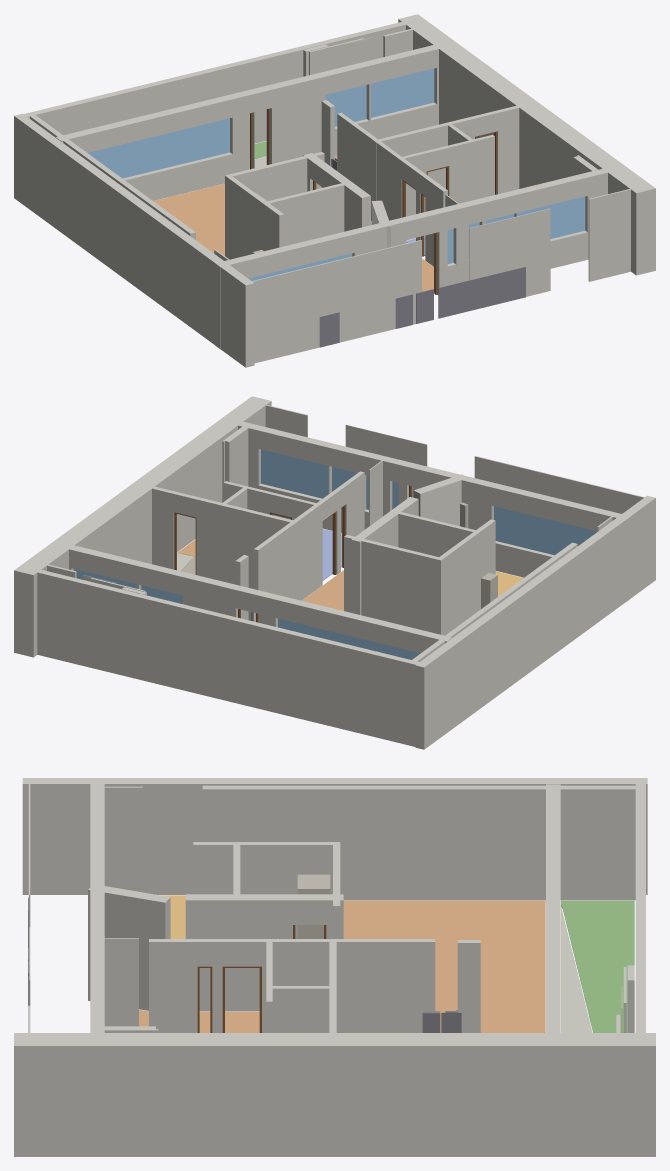
3 renders of one model, top to bottom at view 1: azimuth 30°, elevation 25°; view 2: azimuth 150°, elevation 25°; view 3: azimuth 270°, elevation 25°, orthographic. The views are drawn at different scales.
Visible parts, largest first — view 1: walls, railings, window_7, floor_3_Living_Room, window_6, window_5, window_8; view 2: walls, window_4, window_5, window_7, floor_3_Living_Room, floor_8_Bed_Room; view 3: walls, floor_3_Living_Room, floor_0_Outdoor, floor_1_Undefined, furniture_0_closet, railings, floor_10_Kitchen.
Boxes of the visible parts, left/top/right/bottom form: walls: left=14, top=14, right=655, bottom=367; railings: left=319, top=158, right=525, bottom=347; window_7: left=88, top=118, right=229, bottom=178; floor_3_Living_Room: left=153, top=183, right=433, bottom=291; window_6: left=371, top=68, right=434, bottom=117; window_5: left=517, top=196, right=585, bottom=238; window_8: left=325, top=85, right=366, bottom=126; walls: left=14, top=396, right=655, bottom=749; window_4: left=494, top=506, right=596, bottom=555; window_5: left=261, top=449, right=328, bottom=498; window_7: left=278, top=618, right=420, bottom=659; floor_3_Living_Room: left=302, top=570, right=343, bottom=610; floor_8_Bed_Room: left=322, top=529, right=341, bottom=580; walls: left=14, top=778, right=655, bottom=1156; floor_3_Living_Room: left=139, top=900, right=545, bottom=1032; floor_0_Outdoor: left=561, top=900, right=634, bottom=1032; floor_1_Undefined: left=561, top=906, right=592, bottom=1032; furniture_0_closet: left=297, top=874, right=330, bottom=938; railings: left=28, top=898, right=461, bottom=1032; floor_10_Kitchen: left=161, top=895, right=185, bottom=938.
Bounding box in the file's own units: 13.98 × 2.72 × 14.16.
